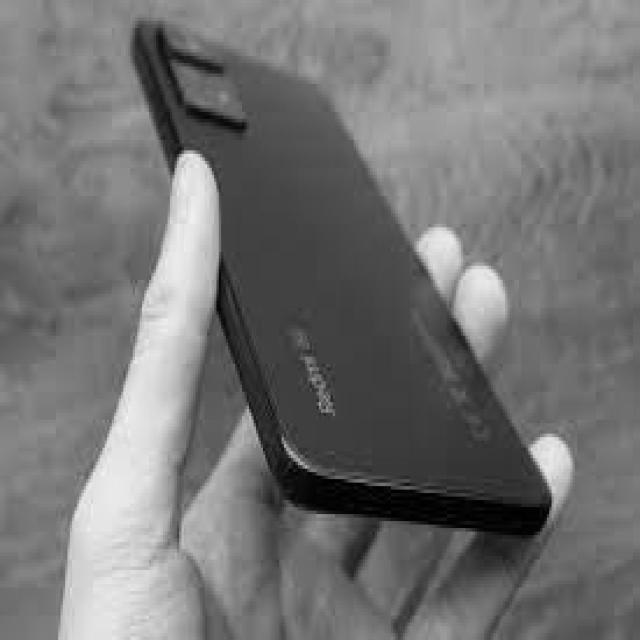No gun_phone: (133, 21, 552, 538)
